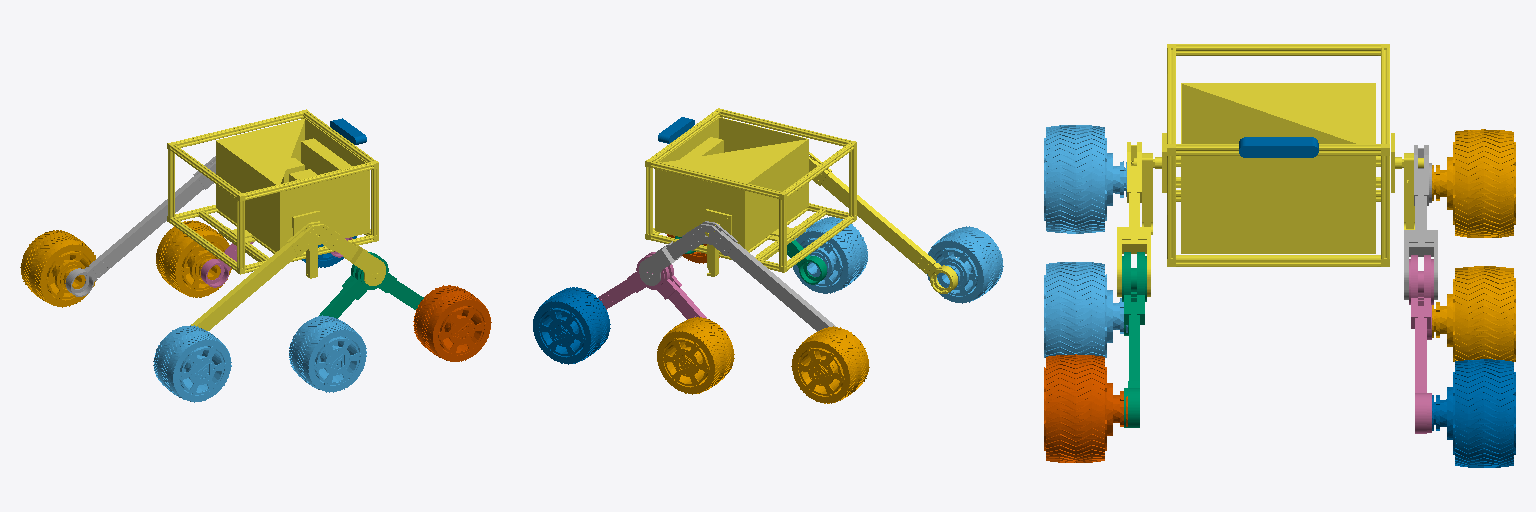
robot.urdf — rover_test_version:
<?xml version="1.0" ?>
<!-- =================================================================================== -->
<!-- |    This document was autogenerated by xacro from rover_raw.xacro                | -->
<!-- |    EDITING THIS FILE BY HAND IS NOT RECOMMENDED                                 | -->
<!-- =================================================================================== -->
<!--
  Robot: rover_test_version
  Generated by: LinkForge v1.4.3
  https://github.com/arounamounchili/linkforge
  Date: 2026-08-08 12:18:26
-->
<robot name="rover_test_version">
  <!-- Links -->
  <link name="back_left_wheel_link">
    <inertial>
      <origin rpy="-1.570796 -0.000001 0.000001" xyz="-0.000784 0.092012 -0.001876"/>
      <mass value="3"/>
      <inertia ixx="0.019211" ixy="0" ixz="0" iyy="0.019211" iyz="0" izz="0.02149"/>
    </inertial>
    <visual>
      <origin rpy="-1.570796 -0.000001 0.000001" xyz="-0.000784 0.092012 -0.001876"/>
      <geometry>
        <mesh filename="package://rover_description/urdf/meshes/back_left_wheel_link_visual.obj"/>
      </geometry>
    </visual>
    <collision>
      <origin rpy="-1.570796 -0.000001 0.000001" xyz="-0.000784 0.092012 -0.001876"/>
      <geometry>
        <cylinder length="0.184024" radius="0.119695"/>
      </geometry>
    </collision>
  </link>
  <link name="back_right_wheel_link">
    <inertial>
      <origin rpy="1.570796 0 0" xyz="-0.000784 -0.092012 0.001876"/>
      <mass value="3"/>
      <inertia ixx="0.019211" ixy="0" ixz="0" iyy="0.019211" iyz="0" izz="0.02149"/>
    </inertial>
    <visual>
      <origin rpy="1.570796 0 0" xyz="-0.000784 -0.092012 0.001876"/>
      <geometry>
        <mesh filename="package://rover_description/urdf/meshes/back_right_wheel_link_visual.obj"/>
      </geometry>
    </visual>
    <collision>
      <origin rpy="1.570796 0 0" xyz="-0.000784 -0.092012 0.001876"/>
      <geometry>
        <cylinder length="0.184024" radius="0.119695"/>
      </geometry>
    </collision>
  </link>
  <link name="chassis_footprint">
    <inertial>
      <mass value="1"/>
      <inertia ixx="0" ixy="0" ixz="0" iyy="0" iyz="0" izz="0"/>
    </inertial>
  </link>
  <link name="chassis_link">
    <inertial>
      <origin rpy="0 0 0" xyz="0 0 0.120509"/>
      <mass value="10"/>
      <inertia ixx="0.299083" ixy="0" ixz="0" iyy="0.33375" iyz="0" izz="0.451333"/>
    </inertial>
    <visual>
      <origin rpy="0 0 0" xyz="0 0 0.120509"/>
      <geometry>
        <mesh filename="package://rover_description/urdf/meshes/chassis_link_visual.obj"/>
      </geometry>
    </visual>
    <collision>
      <origin rpy="0 0 0" xyz="0 0 0.120509"/>
      <geometry>
        <box size="0.54 0.5 0.33"/>
      </geometry>
    </collision>
  </link>
  <link name="front_left_wheel_link">
    <inertial>
      <origin rpy="-1.570796 0 0" xyz="-0.000784 0.092012 -0.001876"/>
      <mass value="3"/>
      <inertia ixx="0.019211" ixy="0" ixz="0" iyy="0.019211" iyz="0" izz="0.02149"/>
    </inertial>
    <visual>
      <origin rpy="-1.570796 0 0" xyz="-0.000784 0.092012 -0.001876"/>
      <geometry>
        <mesh filename="package://rover_description/urdf/meshes/front_left_wheel_link_visual.obj"/>
      </geometry>
    </visual>
    <collision>
      <origin rpy="-1.570796 0 0" xyz="-0.000784 0.092012 -0.001876"/>
      <geometry>
        <cylinder length="0.184024" radius="0.119695"/>
      </geometry>
    </collision>
  </link>
  <link name="front_right_wheel_link">
    <inertial>
      <origin rpy="1.570796 0 0" xyz="-0.000784 -0.092012 0.001876"/>
      <mass value="3"/>
      <inertia ixx="0.019211" ixy="0" ixz="0" iyy="0.019211" iyz="0" izz="0.02149"/>
    </inertial>
    <visual>
      <origin rpy="1.570796 0 0" xyz="-0.000784 -0.092012 0.001876"/>
      <geometry>
        <mesh filename="package://rover_description/urdf/meshes/front_right_wheel_link_visual.obj"/>
      </geometry>
    </visual>
    <collision>
      <origin rpy="1.570796 0 0" xyz="-0.000784 -0.092012 0.001876"/>
      <geometry>
        <cylinder length="0.184024" radius="0.119695"/>
      </geometry>
    </collision>
  </link>
  <link name="left_bogie_link">
    <inertial>
      <origin rpy="0 0 0" xyz="0.001424 0.0005 -0.093084"/>
      <mass value="5"/>
      <inertia ixx="0.833333" ixy="0" ixz="0" iyy="0.833333" iyz="0" izz="0.833333"/>
    </inertial>
    <visual>
      <origin rpy="1.570796 0 0" xyz="0.004906 0 -0.09396"/>
      <geometry>
        <mesh filename="package://rover_description/urdf/meshes/left_bogie_link_visual.obj"/>
      </geometry>
    </visual>
    <collision>
      <origin rpy="0 0 0" xyz="0.001424 0.0005 -0.093084"/>
      <geometry>
        <mesh filename="package://rover_description/urdf/meshes/left_bogie_link_collision.stl"/>
      </geometry>
    </collision>
  </link>
  <link name="left_rocker_link">
    <inertial>
      <origin rpy="0 0 0" xyz="-0.180935 -0.001197 -0.156518"/>
      <mass value="4"/>
      <inertia ixx="0.666667" ixy="0" ixz="0" iyy="0.666667" iyz="0" izz="0.666667"/>
    </inertial>
    <visual>
      <origin rpy="0 0 0" xyz="-0.17271 0 -0.157656"/>
      <geometry>
        <mesh filename="package://rover_description/urdf/meshes/left_rocker_link_visual.obj"/>
      </geometry>
    </visual>
    <collision>
      <origin rpy="0 0 0" xyz="-0.180935 -0.001197 -0.156518"/>
      <geometry>
        <mesh filename="package://rover_description/urdf/meshes/left_rocker_link_collision.stl"/>
      </geometry>
    </collision>
  </link>
  <link name="middle_left_wheel_link">
    <inertial>
      <origin rpy="-1.570796 0 0.000001" xyz="-0.000784 0.092012 -0.001876"/>
      <mass value="3"/>
      <inertia ixx="0.019211" ixy="0" ixz="0" iyy="0.019211" iyz="0" izz="0.02149"/>
    </inertial>
    <visual>
      <origin rpy="-1.570796 0 0.000001" xyz="-0.000784 0.092012 -0.001876"/>
      <geometry>
        <mesh filename="package://rover_description/urdf/meshes/middle_left_wheel_link_visual.obj"/>
      </geometry>
    </visual>
    <collision>
      <origin rpy="-1.570796 0 0.000001" xyz="-0.000784 0.092012 -0.001876"/>
      <geometry>
        <cylinder length="0.184024" radius="0.119695"/>
      </geometry>
    </collision>
  </link>
  <link name="middle_right_wheel_link">
    <inertial>
      <origin rpy="1.570796 0 0" xyz="-0.000784 -0.092012 0.001876"/>
      <mass value="3"/>
      <inertia ixx="0.019211" ixy="0" ixz="0" iyy="0.019211" iyz="0" izz="0.02149"/>
    </inertial>
    <visual>
      <origin rpy="1.570796 0 0" xyz="-0.000784 -0.092012 0.001876"/>
      <geometry>
        <mesh filename="package://rover_description/urdf/meshes/middle_right_wheel_link_visual.obj"/>
      </geometry>
    </visual>
    <collision>
      <origin rpy="1.570796 0 0" xyz="-0.000784 -0.092012 0.001876"/>
      <geometry>
        <cylinder length="0.184024" radius="0.119695"/>
      </geometry>
    </collision>
  </link>
  <link name="right_bogie_link">
    <inertial>
      <origin rpy="-1.570799 3.138344 0" xyz="-0.00177 -0.0005 -0.093474"/>
      <mass value="5"/>
      <inertia ixx="0.833333" ixy="0" ixz="0" iyy="0.833333" iyz="0" izz="0.833333"/>
    </inertial>
    <visual>
      <origin rpy="1.570794 0 -3.141593" xyz="-0.004907 0 -0.09396"/>
      <geometry>
        <mesh filename="package://rover_description/urdf/meshes/right_bogie_link_visual.obj"/>
      </geometry>
    </visual>
    <collision>
      <origin rpy="-1.570799 3.138344 0" xyz="-0.00177 -0.0005 -0.093474"/>
      <geometry>
        <mesh filename="package://rover_description/urdf/meshes/right_bogie_link_collision.stl"/>
      </geometry>
    </collision>
  </link>
  <link name="right_rocker_link">
    <inertial>
      <origin rpy="0 0 0" xyz="-0.180935 -0.001197 -0.156518"/>
      <mass value="4"/>
      <inertia ixx="0.666667" ixy="0" ixz="0" iyy="0.666667" iyz="0" izz="0.666667"/>
    </inertial>
    <visual>
      <origin rpy="0 0 0" xyz="-0.17271 0 -0.157656"/>
      <geometry>
        <mesh filename="package://rover_description/urdf/meshes/right_rocker_link_visual.obj"/>
      </geometry>
    </visual>
    <collision>
      <origin rpy="0 0 0" xyz="-0.180935 -0.001197 -0.156518"/>
      <geometry>
        <mesh filename="package://rover_description/urdf/meshes/right_rocker_link_collision.stl"/>
      </geometry>
    </collision>
  </link>
  <link name="zed_camera_link">
    <!-- Geometry copied from rover_arm_raw.xacro's zed_camera_link (the
         LinkForge-generated, verified source — NOT the reconstructed copy
         in rover_arm_sim.xacro). Mesh is intentionally still referenced from
         the rover_arm_description package below; see chat for why. -->
    <inertial>
      <origin rpy="0 -1.570796 0" xyz="0.02155 0 0"/>
      <mass value="0.229"/>
      <inertia ixx="0.000622" ixy="0" ixz="0" iyy="0.000053" iyz="0" izz="0.000604"/>
    </inertial>
    <visual>
      <origin rpy="0 0 0" xyz="0.02155 0 0"/>
      <geometry>
        <mesh filename="package://rover_arm_description/urdf/meshes/zed_camera_link_visual.stl"/>
      </geometry>
    </visual>
    <collision>
      <origin rpy="0 -1.570796 0" xyz="0.02155 0 0"/>
      <geometry>
        <box size="0.0303 0.1753 0.0431"/>
      </geometry>
    </collision>
  </link>
  <!-- Joints -->
  <joint name="back_left_wheel_link_joint" type="continuous">
    <origin rpy="0 0 0" xyz="-0.550766 0.0235 -0.305642"/>
    <parent link="left_rocker_link"/>
    <child link="back_left_wheel_link"/>
    <axis xyz="0 1 0"/>
    <limit effort="12" lower="0" upper="0" velocity="15"/>
  </joint>
  <joint name="back_right_wheel_link_joint" type="continuous">
    <origin rpy="-0.000001 0 0" xyz="-0.55172 -0.0135 -0.306193"/>
    <parent link="right_rocker_link"/>
    <child link="back_right_wheel_link"/>
    <axis xyz="0 1 0"/>
    <limit effort="12" lower="0" upper="0" velocity="15"/>
  </joint>
  <joint name="chassis_link_joint" type="fixed">
    <origin rpy="0 0 0" xyz="0.017593 -0.313117 -0.118479"/>
    <parent link="chassis_footprint"/>
    <child link="chassis_link"/>
  </joint>
  <joint name="front_left_wheel_link_joint" type="continuous">
    <origin rpy="0.000001 0 0" xyz="0.246102 0.0235 -0.202872"/>
    <parent link="left_bogie_link"/>
    <child link="front_left_wheel_link"/>
    <axis xyz="0 1 0"/>
    <limit effort="12" lower="0" upper="0" velocity="15"/>
  </joint>
  <joint name="front_right_wheel_link_joint" type="continuous">
    <origin rpy="0 0 0" xyz="0.247131 -0.0135 -0.201737"/>
    <parent link="right_bogie_link"/>
    <child link="front_right_wheel_link"/>
    <axis xyz="0 1 0"/>
    <limit effort="12" lower="0" upper="0" velocity="15"/>
  </joint>
  <joint name="left_bogie_link_joint" type="revolute">
    <origin rpy="-0.000001 0 0" xyz="0.210291 0 -0.190873"/>
    <parent link="left_rocker_link"/>
    <child link="left_bogie_link"/>
    <axis xyz="0 1 0"/>
    <limit effort="10" lower="-0.5236" upper="0.5236" velocity="1"/>
  </joint>
  <joint name="left_rocker_link_joint" type="revolute">
    <origin rpy="0 0 0" xyz="-0.017593 0.313117 0.118479"/>
    <parent link="chassis_link"/>
    <child link="left_rocker_link"/>
    <axis xyz="0 1 0"/>
    <limit effort="10" lower="-1.570795" upper="1.570795" velocity="1"/>
  </joint>
  <joint name="middle_left_wheel_link_joint" type="continuous">
    <origin rpy="0.000001 -0.000001 -0.000001" xyz="-0.236289 0.0235 -0.201885"/>
    <parent link="left_bogie_link"/>
    <child link="middle_left_wheel_link"/>
    <axis xyz="0 1 0"/>
    <limit effort="12" lower="0" upper="0" velocity="15"/>
  </joint>
  <joint name="middle_right_wheel_link_joint" type="continuous">
    <origin rpy="0 0 0" xyz="-0.236289 -0.0135 -0.201885"/>
    <parent link="right_bogie_link"/>
    <child link="middle_right_wheel_link"/>
    <axis xyz="0 1 0"/>
    <limit effort="12" lower="0" upper="0" velocity="15"/>
  </joint>
  <joint name="right_bogie_link_joint" type="revolute">
    <origin rpy="-0.000001 0 0" xyz="0.210291 0 -0.190873"/>
    <parent link="right_rocker_link"/>
    <child link="right_bogie_link"/>
    <axis xyz="0 1 0"/>
    <limit effort="10" lower="-0.5236" upper="0.5236" velocity="1"/>
  </joint>
  <joint name="right_rocker_link_joint" type="revolute">
    <origin rpy="0 0 0" xyz="-0.018794 -0.317419 0.125316"/>
    <parent link="chassis_link"/>
    <child link="right_rocker_link"/>
    <axis xyz="0 1 0"/>
    <limit effort="10" lower="-3.141593" upper="3.141593" velocity="1"/>
  </joint>
  <joint name="zed_camera_link_joint" type="fixed">
    <!-- TODO: PLACEHOLDER. chassis_link and the arm's stand_link have no
         defined transform between them yet, so this is a guess: front-center,
         on top of the chassis box (chassis top surface is roughly
         z = 0.120509 + 0.33/2 = 0.2855, chassis front face roughly x = 0.27).
         Replace xyz once you know/measure where the arm actually mounts, and
         check the camera's forward direction in RViz — rpy may need a
         90-degree yaw correction depending on how the mesh's local frame is
         oriented (it was originally referenced off stand_link, not
         chassis_link, so the old rpy of "0 0 1.570796" doesn't necessarily
         carry over). -->
    <origin rpy="0 0 0" xyz="0.27 0 0.30"/>
    <parent link="chassis_link"/>
    <child link="zed_camera_link"/>
  </joint>
</robot>

--- What the picture shows (computed from the rendered views, not written in the file) ---
The picture shows the robot from 3 angles, left to right: view 1: azimuth 30°, elevation 25°; view 2: azimuth 150°, elevation 25°; view 3: azimuth 270°, elevation 25°; orthographic projection.
Model rover_test_version with 13 links and 12 joints (4 revolute, 6 continuous, 2 fixed), rooted at chassis_footprint, posed all joints at 0.
Visible links, largest first — view 1: chassis_link, front_right_wheel_link, middle_right_wheel_link, back_right_wheel_link, right_rocker_link, back_left_wheel_link, middle_left_wheel_link, left_rocker_link, right_bogie_link, left_bogie_link; view 2: chassis_link, front_left_wheel_link, middle_left_wheel_link, back_left_wheel_link, left_rocker_link, back_right_wheel_link, middle_right_wheel_link, right_rocker_link, left_bogie_link, right_bogie_link; view 3: chassis_link, front_left_wheel_link, back_left_wheel_link, back_right_wheel_link, front_right_wheel_link, middle_left_wheel_link, middle_right_wheel_link, left_bogie_link, right_bogie_link, left_rocker_link, right_rocker_link, zed_camera_link.
Link boxes in pixels (box(x1,y1,x2,y2)): chassis_link: box(167, 109, 378, 278); front_right_wheel_link: box(413, 285, 491, 361); middle_right_wheel_link: box(289, 315, 366, 392); back_right_wheel_link: box(153, 325, 231, 402); right_rocker_link: box(191, 221, 385, 330); back_left_wheel_link: box(20, 230, 95, 307); middle_left_wheel_link: box(156, 220, 231, 297); left_rocker_link: box(65, 156, 215, 296); right_bogie_link: box(319, 252, 423, 318); left_bogie_link: box(201, 237, 352, 287); chassis_link: box(645, 108, 856, 276); front_left_wheel_link: box(533, 287, 610, 364); middle_left_wheel_link: box(657, 317, 734, 394); back_left_wheel_link: box(791, 326, 869, 403); left_rocker_link: box(639, 221, 861, 342); back_right_wheel_link: box(927, 226, 1003, 303); middle_right_wheel_link: box(793, 217, 867, 293); right_rocker_link: box(809, 152, 957, 293); left_bogie_link: box(598, 252, 727, 334); right_bogie_link: box(675, 236, 826, 284); chassis_link: box(1131, 44, 1423, 266); front_left_wheel_link: box(1432, 359, 1515, 467); back_left_wheel_link: box(1432, 129, 1515, 237); back_right_wheel_link: box(1044, 125, 1126, 233); front_right_wheel_link: box(1044, 354, 1127, 462); middle_left_wheel_link: box(1432, 266, 1515, 361); middle_right_wheel_link: box(1044, 262, 1127, 357); left_bogie_link: box(1409, 255, 1433, 433); right_bogie_link: box(1122, 252, 1146, 427); left_rocker_link: box(1404, 145, 1437, 299); right_rocker_link: box(1117, 142, 1150, 296); zed_camera_link: box(1239, 137, 1318, 157).
Bounding box of the posed robot: 1.25 × 1.04 × 0.712 m (x, y, z).
12 mesh visuals loaded from 12 distinct referenced files (1 binary STL, 11 OBJ).
